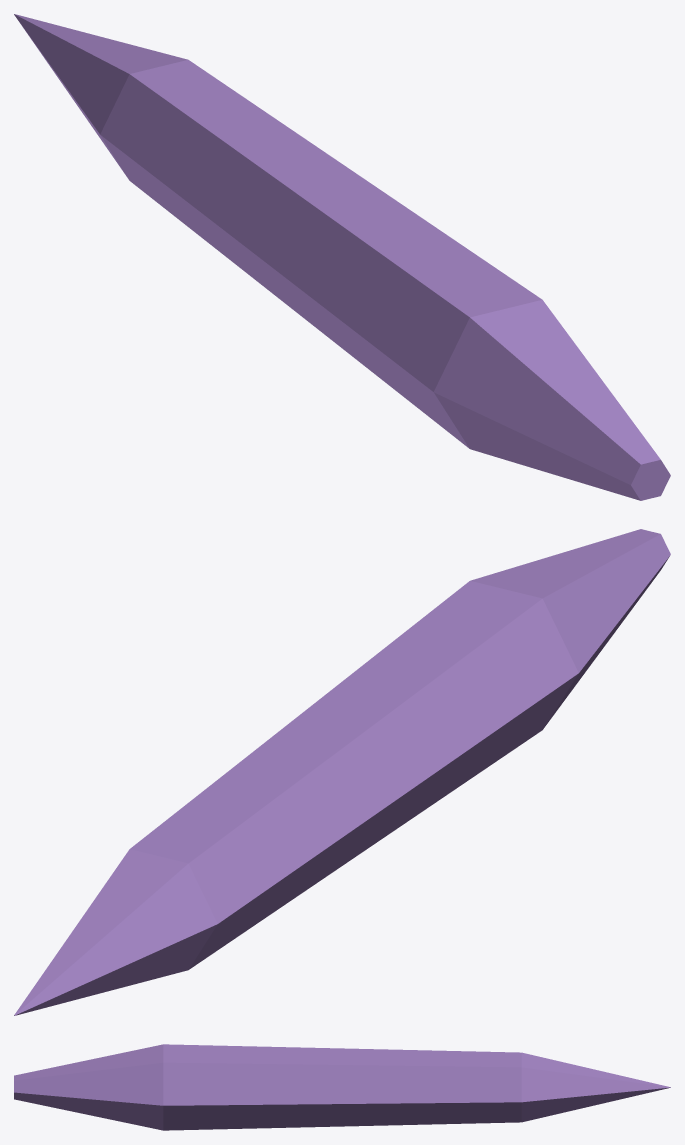
File: MagicSpike.glb
3 renders of one model, top to bottom at view 1: azimuth 30°, elevation 25°; view 2: azimuth 150°, elevation 25°; view 3: azimuth 270°, elevation 25°, orthographic. The views are drawn at different scales.
Visible parts, largest first — view 1: MagicSpike__Body; view 2: MagicSpike__Body; view 3: MagicSpike__Body.
Part boxes in pixels (box(x1,y1,x2,y2)): MagicSpike__Body: box(14, 14, 670, 500); MagicSpike__Body: box(14, 529, 670, 1015); MagicSpike__Body: box(14, 1044, 670, 1130).
Size of the model in its own units: 0.3248 by 0.2813 by 2.46.
Materials: 1 (1 with a texture image).
